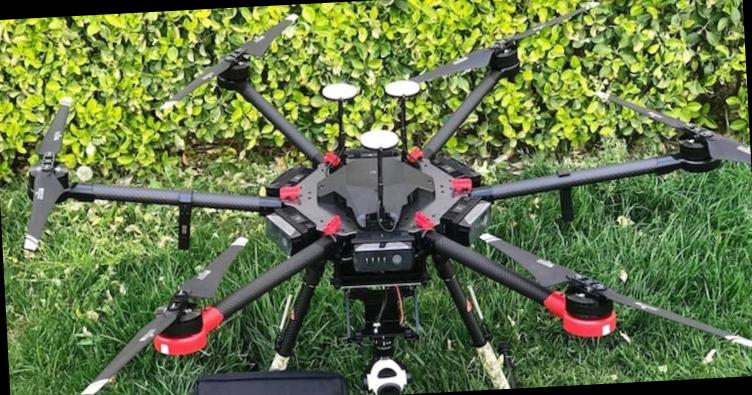drone: (16, 22, 752, 395)
